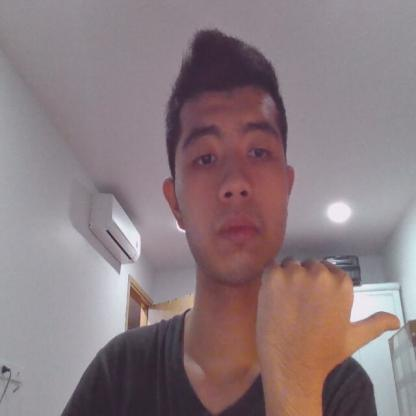left: (256, 258, 402, 385)
